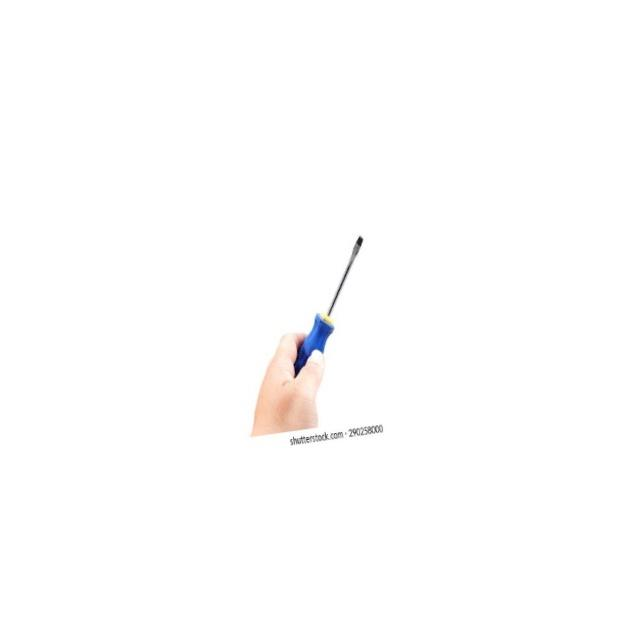screwdriver: (270, 231, 384, 392)
